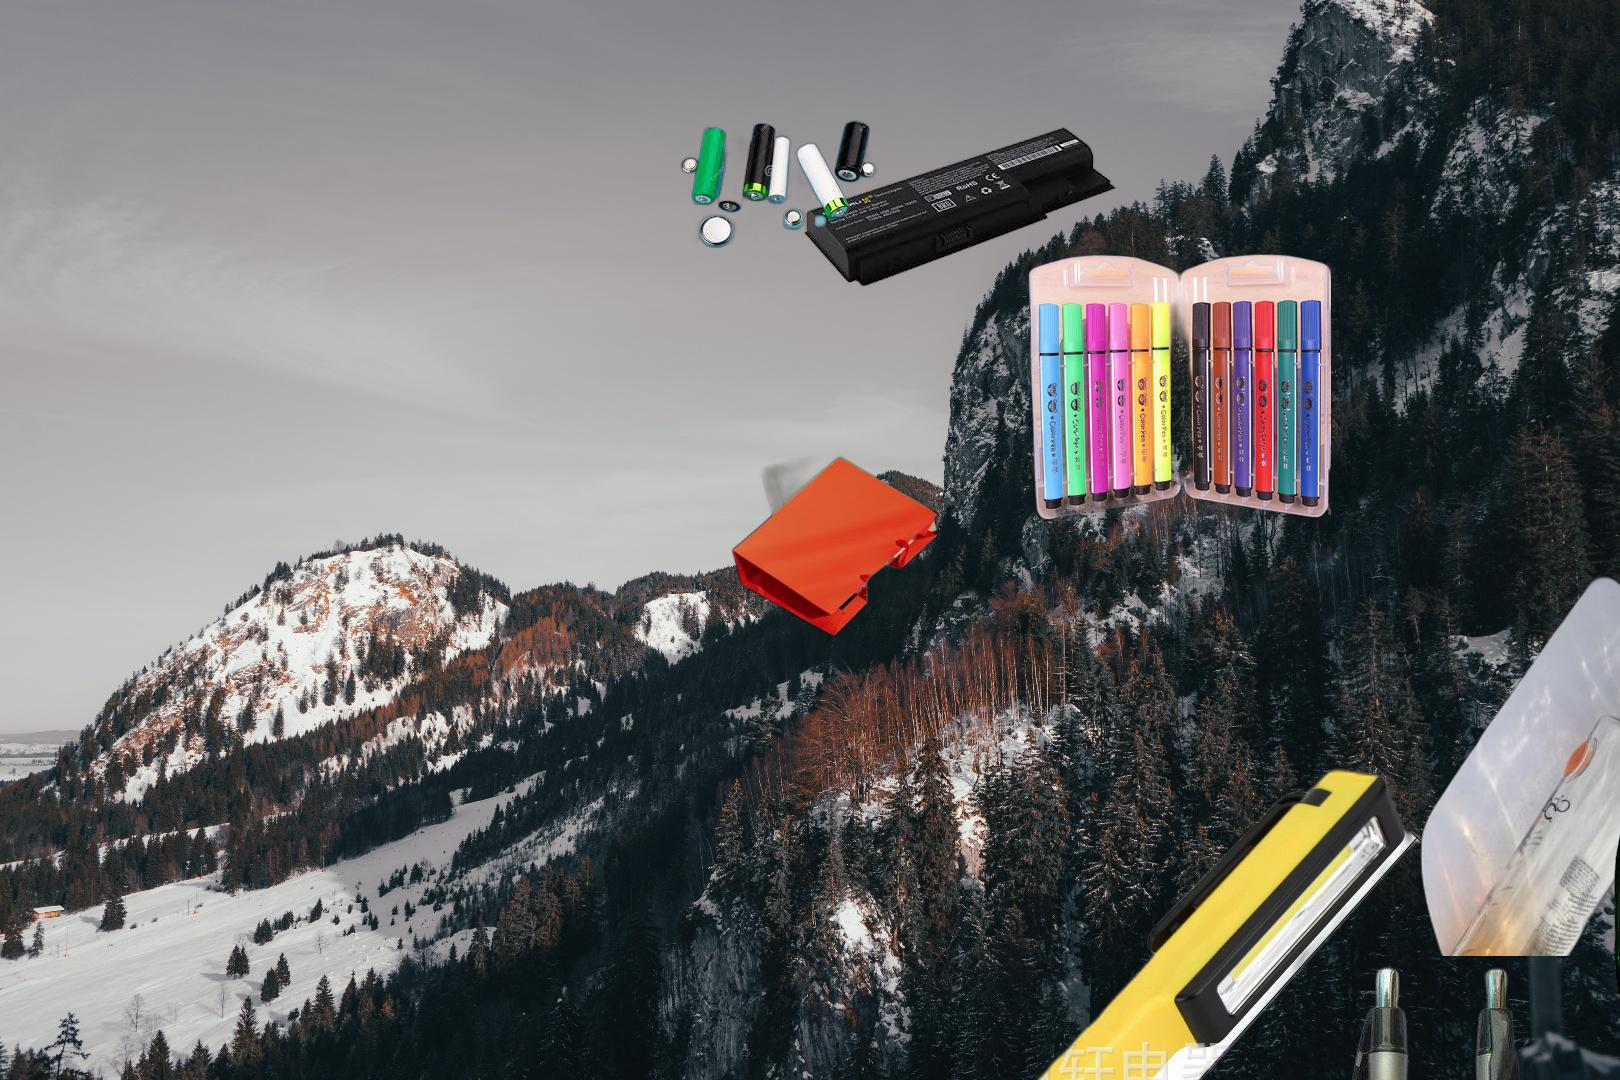battery: (803, 127, 1116, 287), (679, 118, 880, 251)
glass: (1416, 573, 1620, 956)
paper-bag: (728, 428, 993, 673)
penholder: (858, 759, 1451, 1080), (1027, 252, 1331, 523), (1346, 962, 1532, 1080)
shoes: (1612, 796, 1620, 1051)
